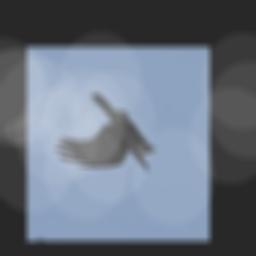Crow: (51, 84, 166, 191)
